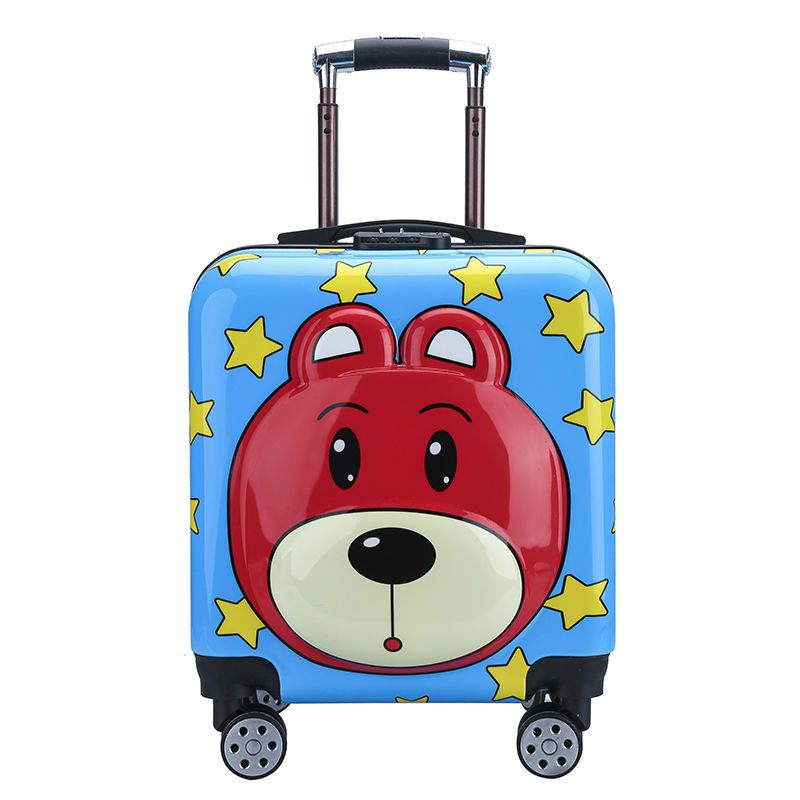box: (190, 242, 616, 704)
handle: (277, 220, 528, 248)
lock: (352, 227, 451, 250)
wheel: (516, 702, 585, 779), (220, 702, 288, 780)
